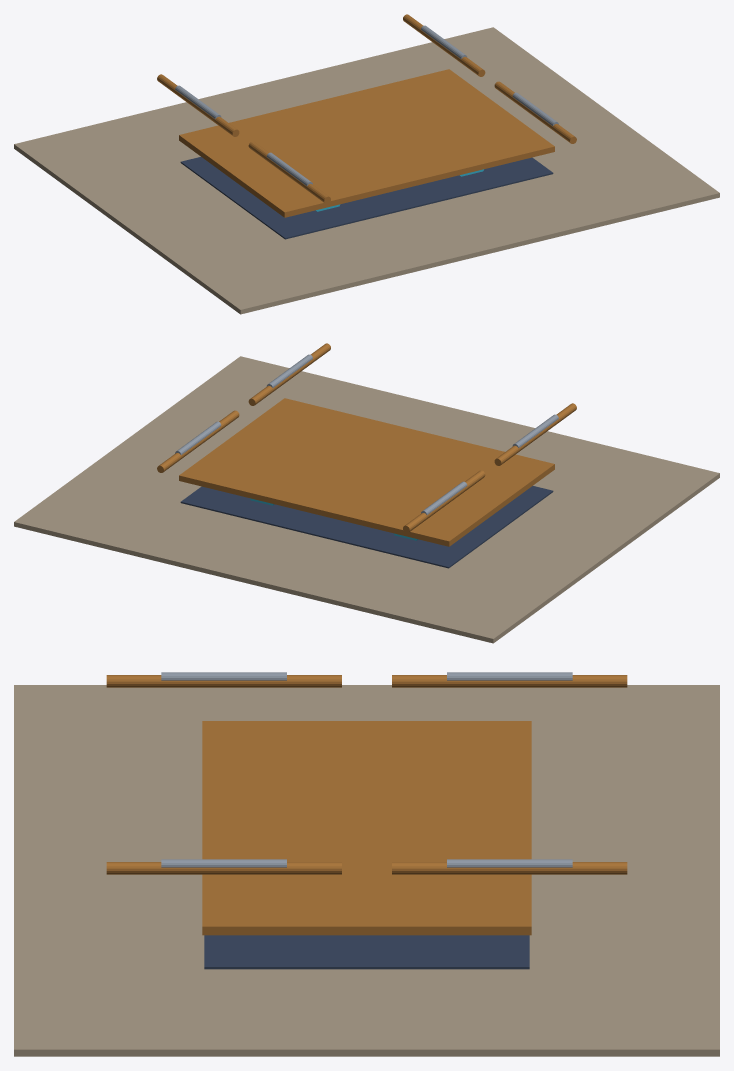
Rendered from stage_05_beams.glb.
3 views of the same model, one above another, from view 1: azimuth 30°, elevation 25°; view 2: azimuth 150°, elevation 25°; view 3: azimuth 270°, elevation 25° (orthographic). The views are drawn at different scales.
Visible parts, largest first — view 1: world; view 2: world; view 3: world.
Boxes of the visible parts, bbox=[...] form: world: bbox=[14, 14, 719, 314]; world: bbox=[14, 343, 719, 643]; world: bbox=[14, 672, 719, 1056].
Size of the model in its own units: 11 by 1.52 by 9.
